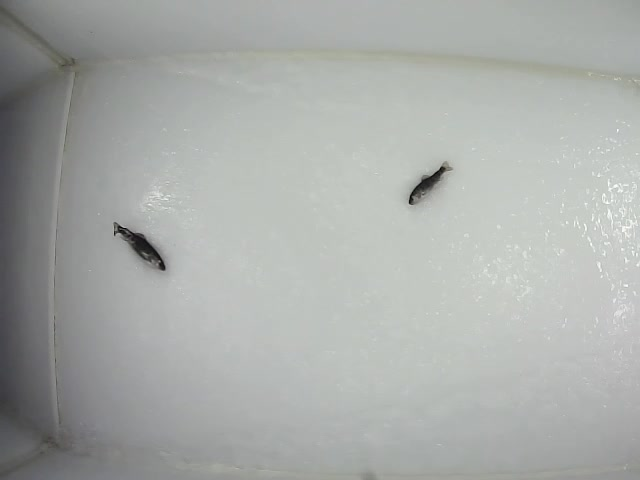fish: (110, 220, 168, 270), (406, 162, 451, 208)
